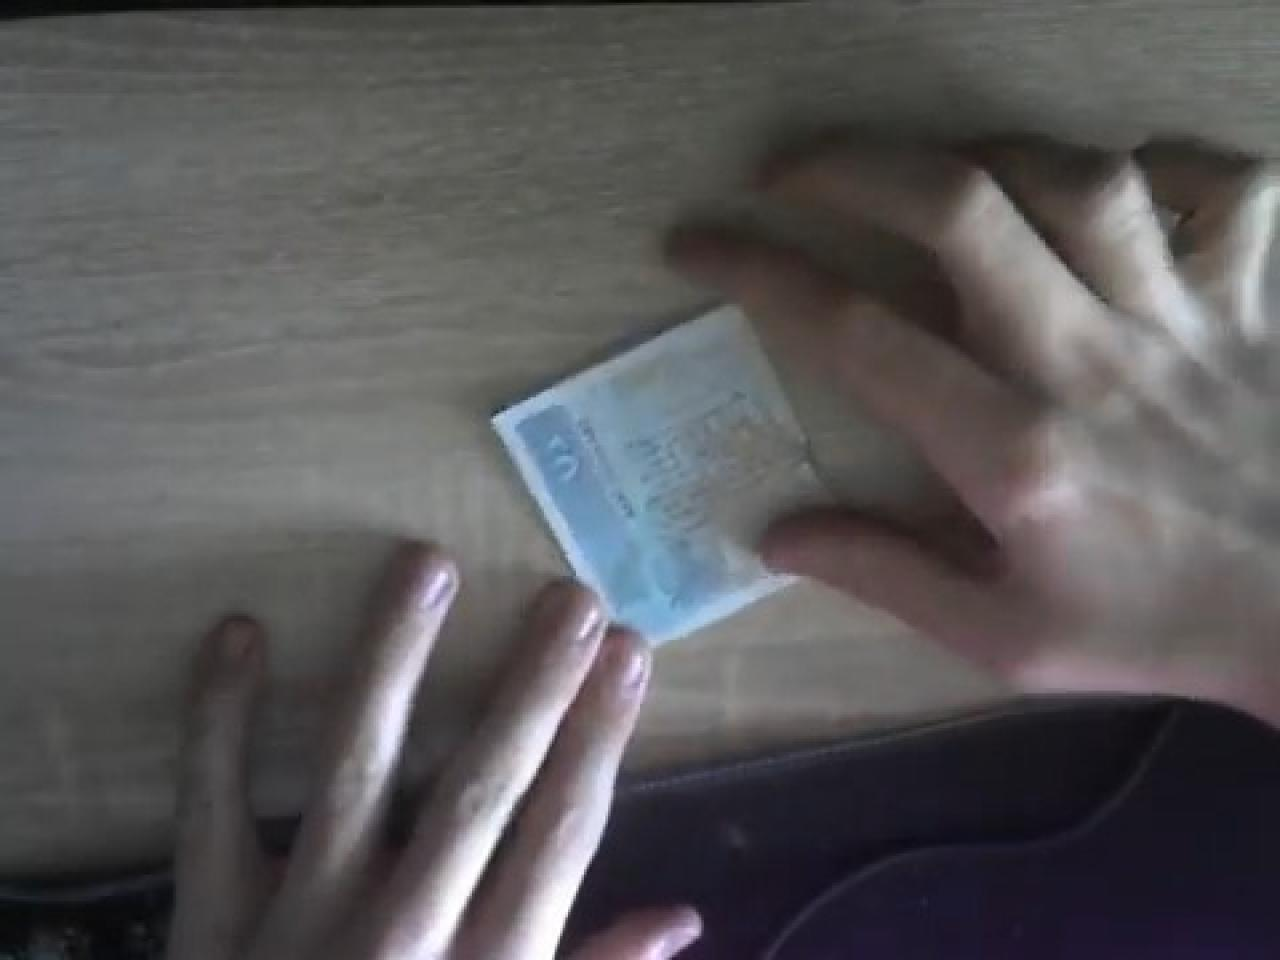20leva: (488, 298, 838, 642)
